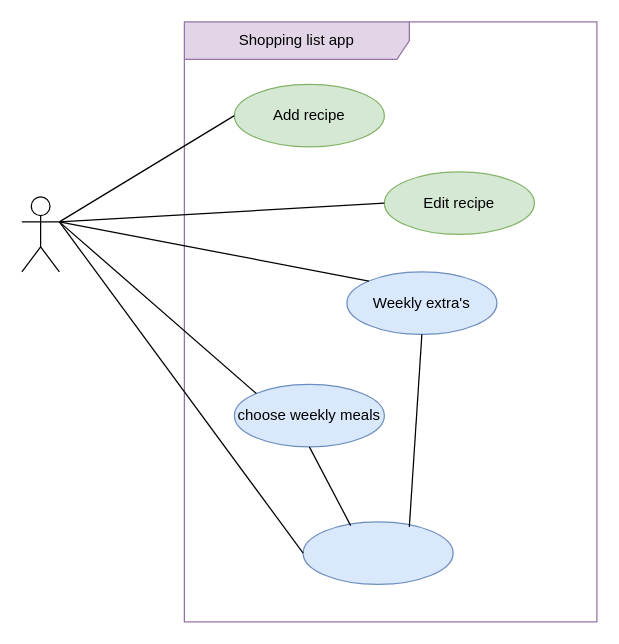
This 619x644 diagram has some shape labels left out. Here are the shapes that lost their labels. From the top down, the centre of each, then its label:
At pixel 40 234: "User".
At pixel 377 552: "create this weeks shopping list".
